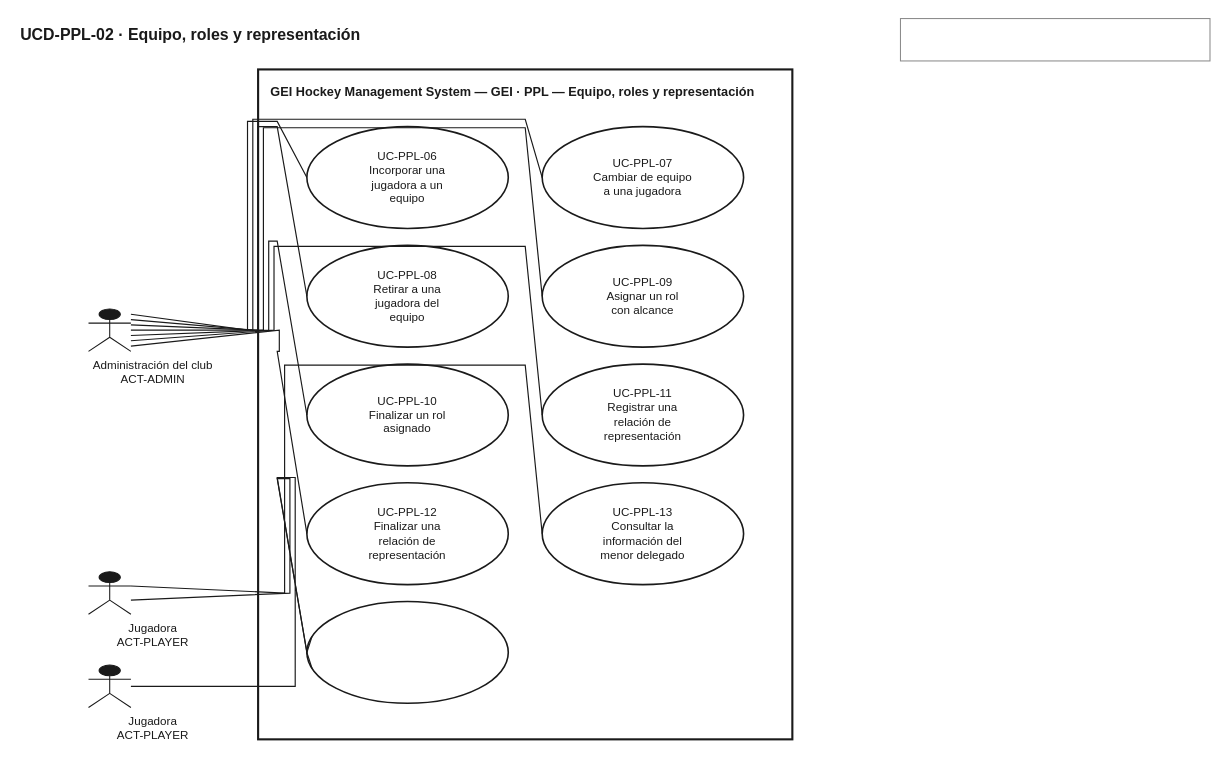
Image size: 1229x761. Some labels were removed from this diagram. Each missing label, with the centre of its shape:
"Gestión sensible: reautenticación [REAUTHENTICATION_REQUIRED]." belongs at point 1054,39.
"UC-PPL-14 Consultar quién actúa por mi cuenta" belongs at point 407,652.
